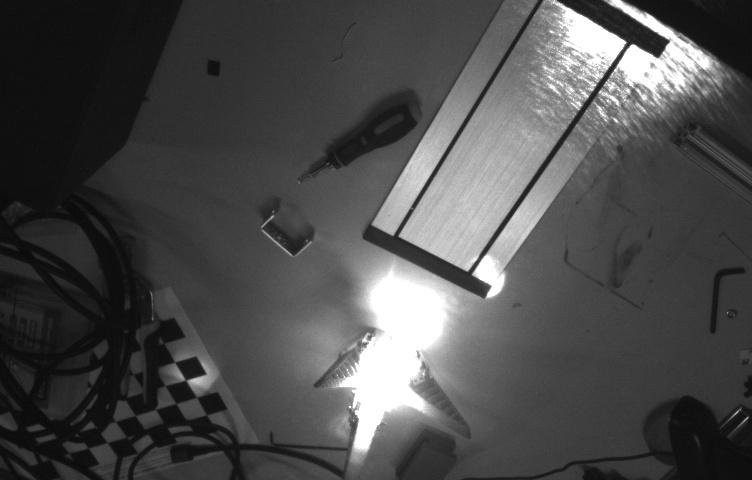Object robotic gripper finger assembly - Material plastic - Color blue - Pdfname: (362, 364, 448, 427)
